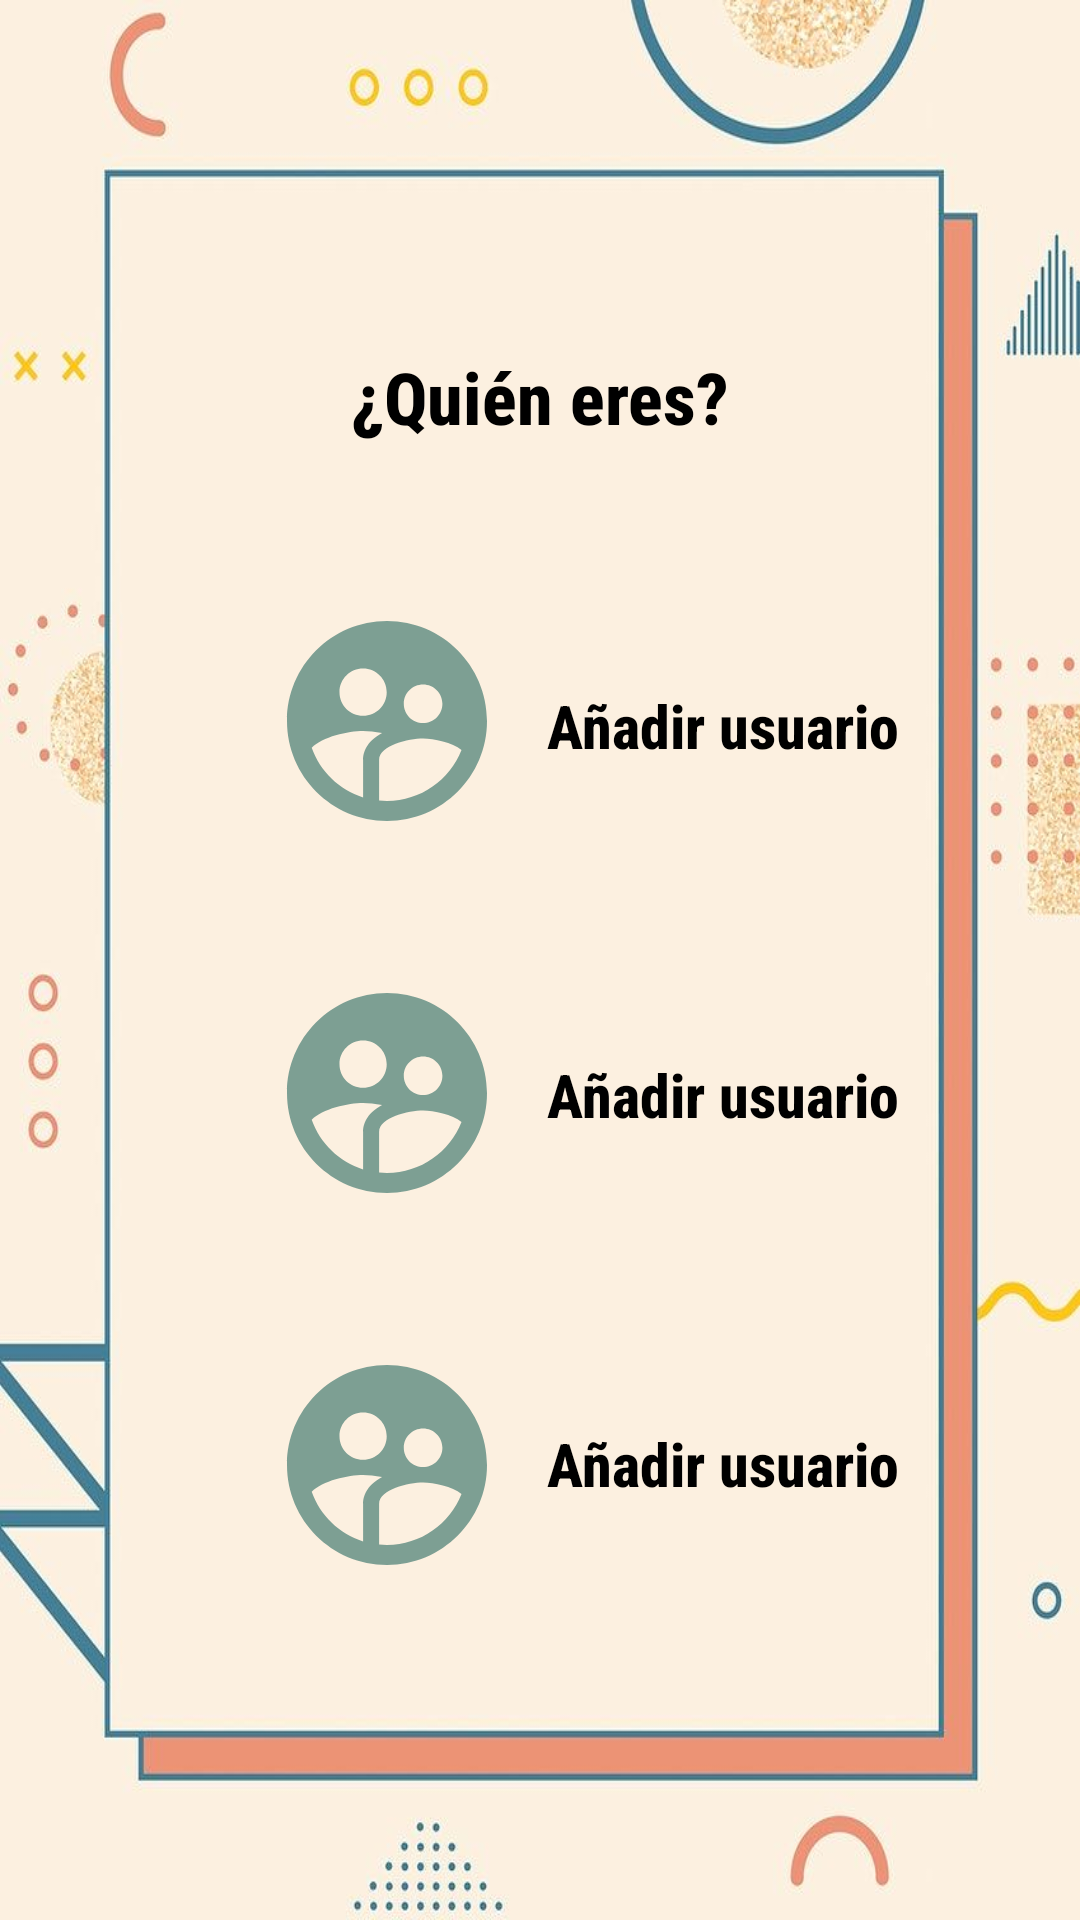

Point at icon controls on the screen. Image size 1080*1920, points as (x,y).
supervised user circle: (387,721), (387,1093), (387,1465)
